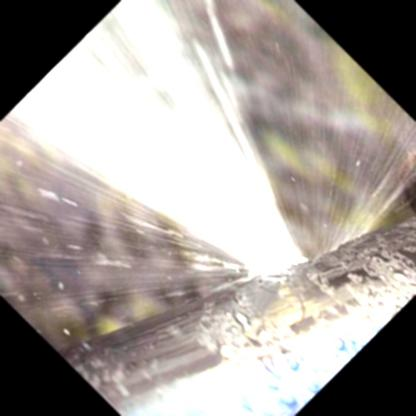burst: (204, 220, 331, 304)
